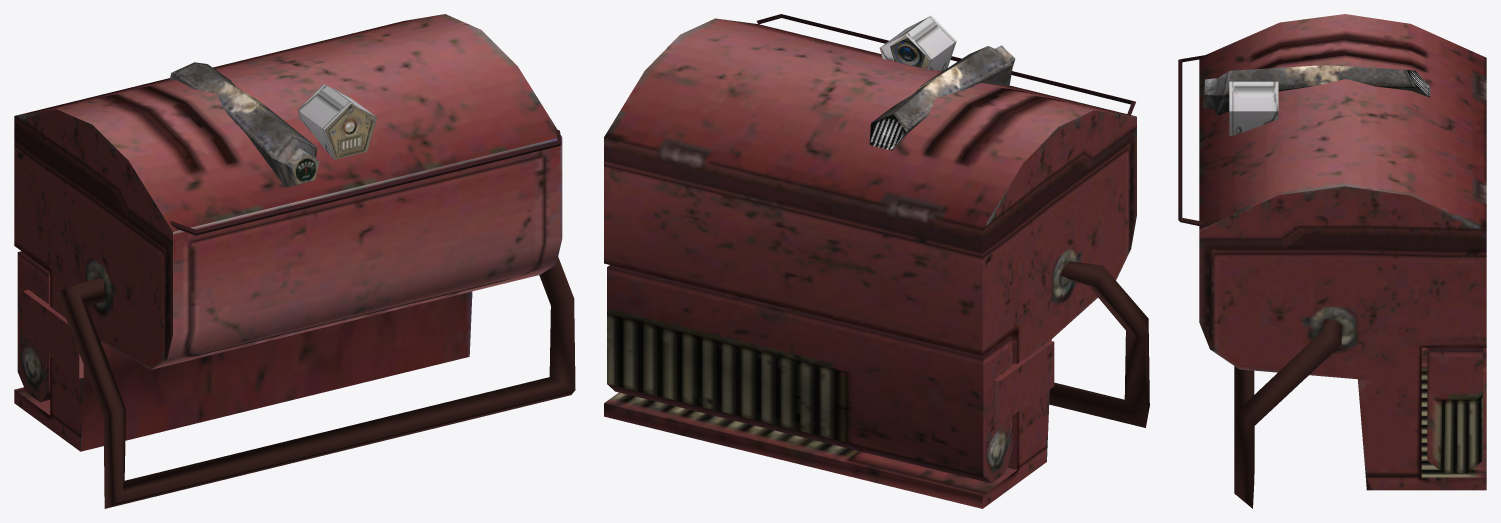
File: eqp_cook_portable_stove_lg_s1_l0.fbx
The picture shows the model from 3 angles, left to right: view 1: azimuth 30°, elevation 25°; view 2: azimuth 150°, elevation 25°; view 3: azimuth 270°, elevation 25°; orthographic projection. The views are drawn at different scales.
Parts seen in each view (by area): view 1: mesh_node; view 2: mesh_node; view 3: mesh_node.
Part boxes in pixels (<box>): mesh_node: <box>14,14,575,508</box>; mesh_node: <box>604,14,1149,508</box>; mesh_node: <box>1178,14,1486,508</box>.
Size of the model in its own units: 1.1 by 0.8058 by 0.6945.
